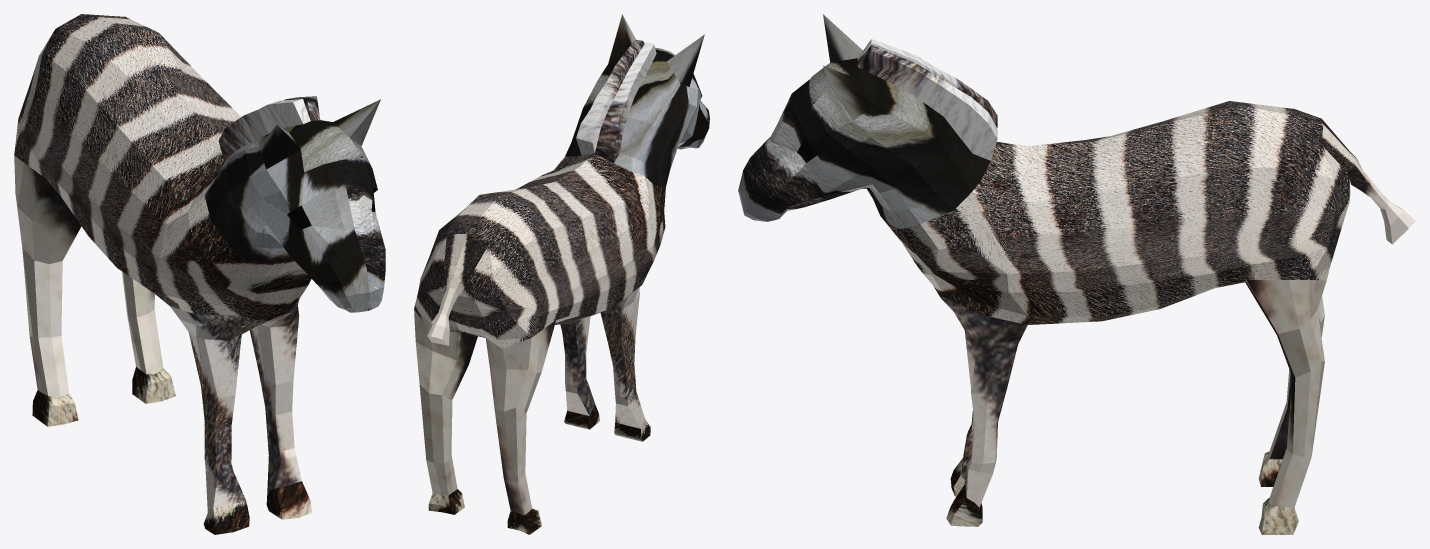
File: simauma_2.0.fbx
The picture shows the model from 3 angles, left to right: view 1: azimuth 30°, elevation 25°; view 2: azimuth 150°, elevation 25°; view 3: azimuth 270°, elevation 25°; orthographic projection. The views are drawn at different scales.
Parts seen in each view (by area): view 1: simauma; view 2: simauma; view 3: simauma.
Part boxes in pixels (box(x1,y1,x2,y2)): simauma: box(14, 14, 385, 534); simauma: box(414, 14, 709, 534); simauma: box(738, 14, 1415, 534).
Size of the model in its own units: 5.18 by 14.13 by 18.67.
Materials: 3 (2 with a texture image).
